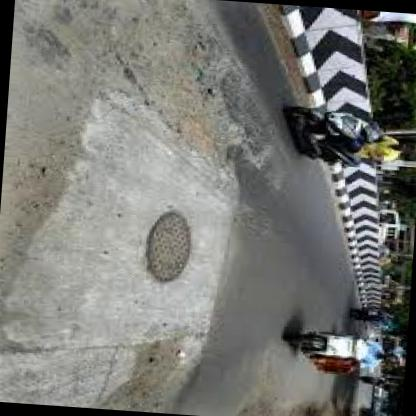manholes: (116, 195, 222, 302)
